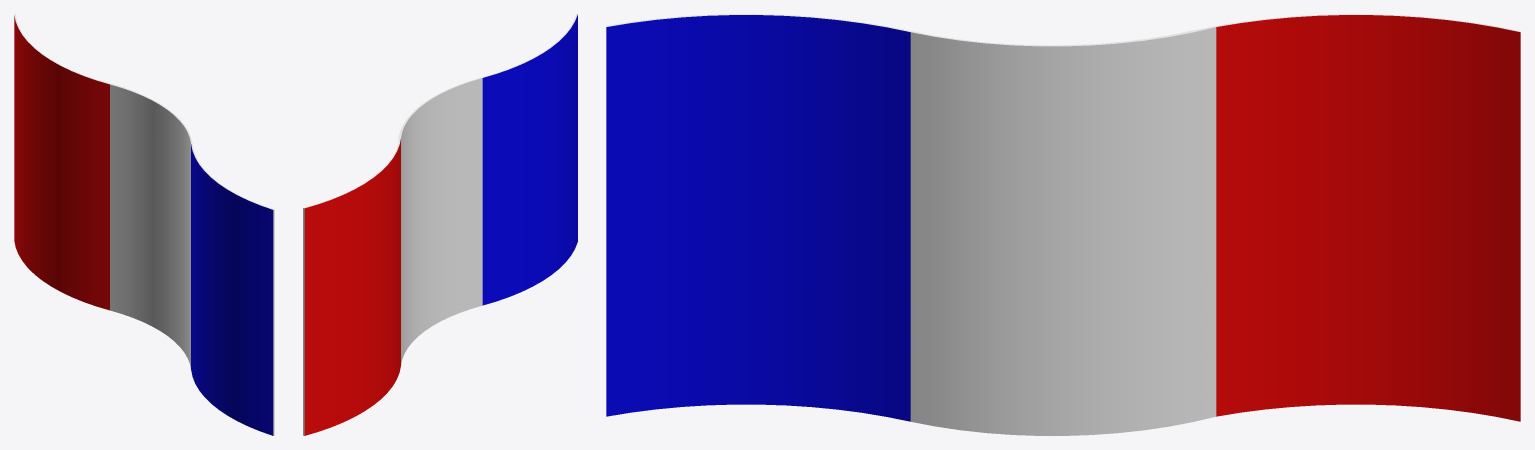
The model's file is flag.dae.
The picture shows the model from 3 angles, left to right: view 1: azimuth 30°, elevation 25°; view 2: azimuth 150°, elevation 25°; view 3: azimuth 270°, elevation 25°; orthographic projection. The views are drawn at different scales.
Visible parts, largest first — view 1: Model; view 2: Model; view 3: Model.
Part boxes in pixels (x1,y1,x2,y2): Model: (14, 14, 274, 435); Model: (303, 14, 577, 435); Model: (606, 14, 1520, 435).
Size of the model in its own units: 25.92 by 309 by 145.
